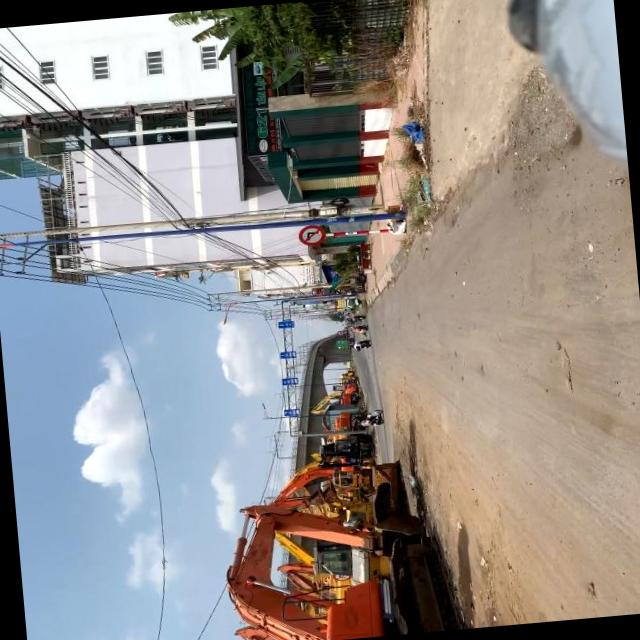P-123a: (297, 223, 324, 246)
